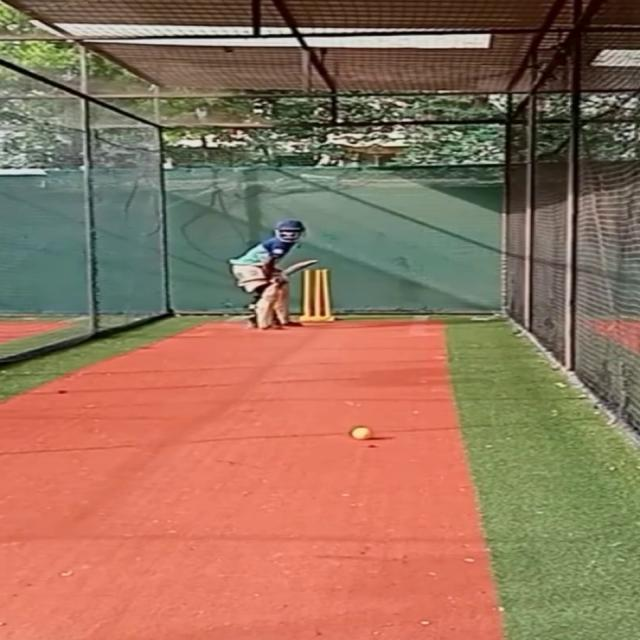ball: (352, 426, 378, 442)
stump: (301, 267, 337, 323)
